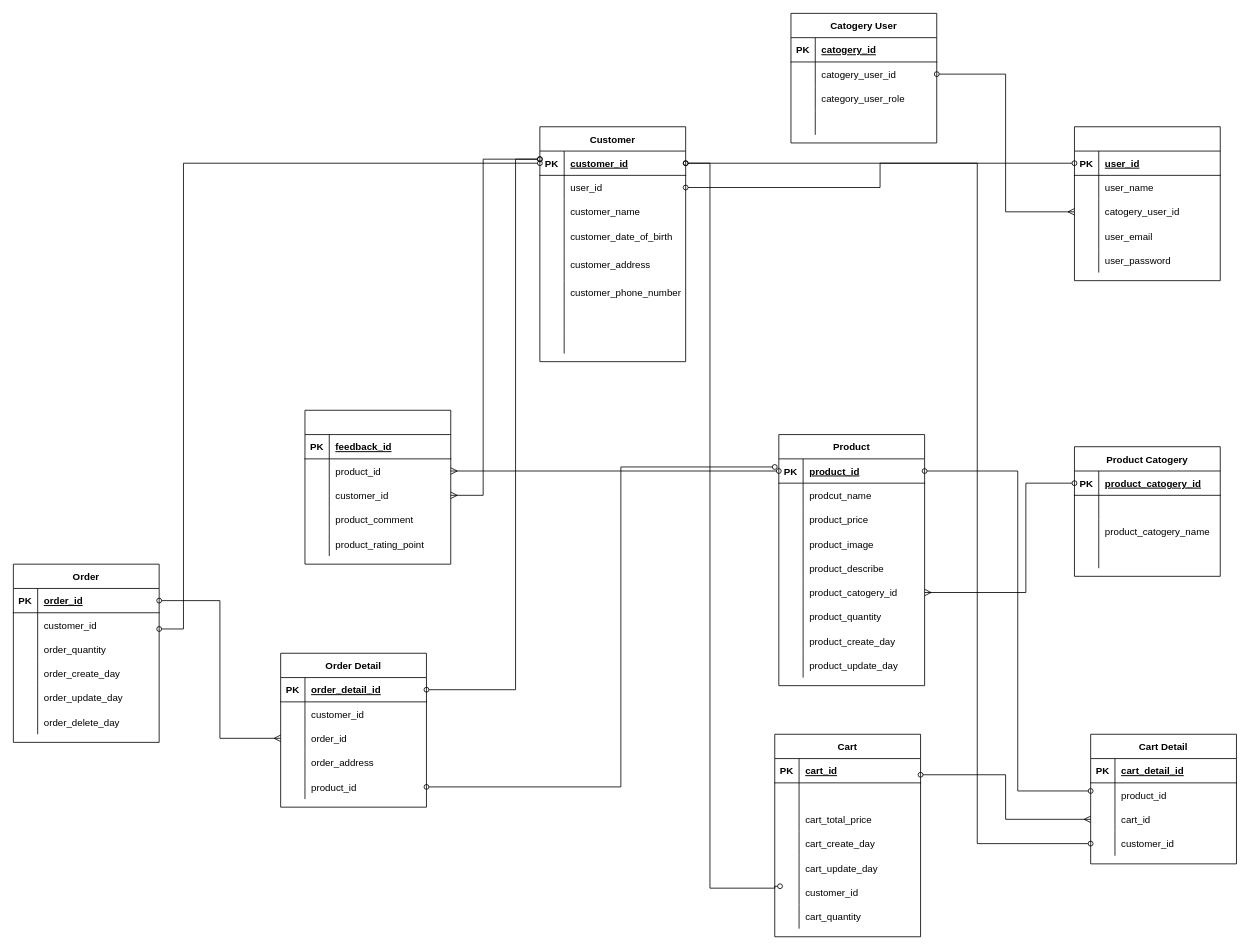
The diagram is 1250 pixels wide and 950 high, and some of its shapes have lost their labels. Here are the shapes that lost their labels. From the top down, the box of each, then its label:
(1074, 126, 1220, 281): Users
(304, 409, 451, 564): Product Feedback
